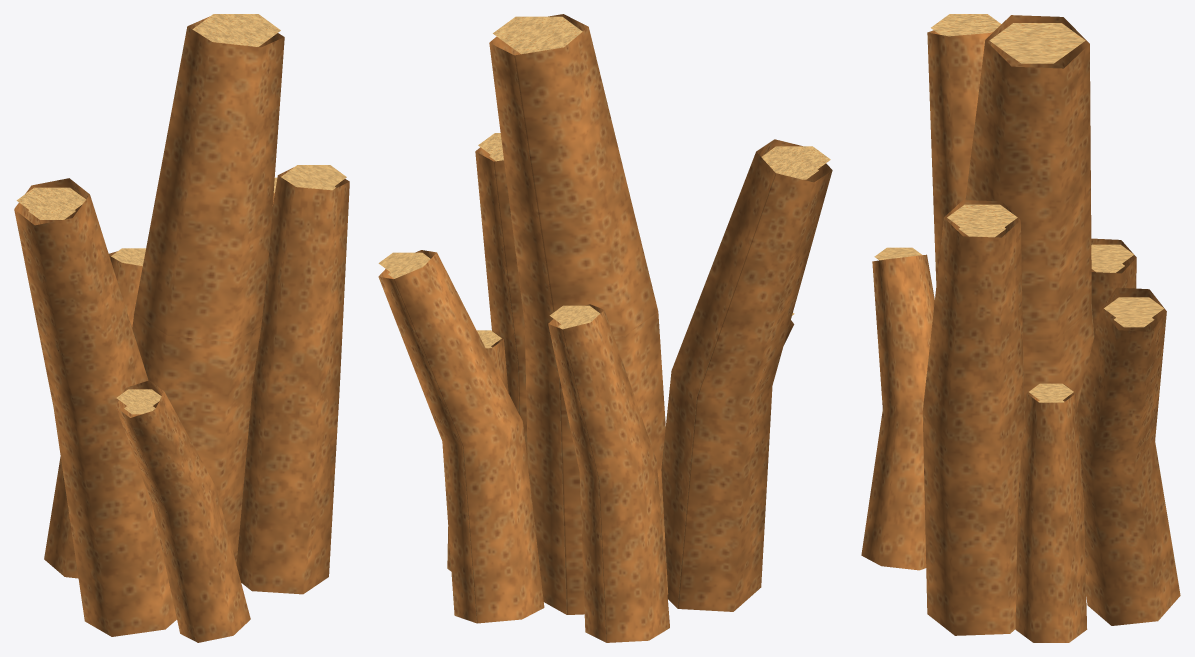
File: plant_shallows_sponge_tube_a.glb
3 renders of one model, left to right at view 1: azimuth 30°, elevation 25°; view 2: azimuth 150°, elevation 25°; view 3: azimuth 270°, elevation 25°, orthographic. The views are drawn at different scales.
Visible parts, largest first — view 1: plant_shallows_sponge_tube_a; view 2: plant_shallows_sponge_tube_a; view 3: plant_shallows_sponge_tube_a.
Part boxes in pixels (x1,y1,x2,y2): plant_shallows_sponge_tube_a: (14,14,349,642); plant_shallows_sponge_tube_a: (378,14,832,642); plant_shallows_sponge_tube_a: (861,14,1180,642).
Size of the model in its own units: 0.3126 by 0.4633 by 0.2316.
1 material, 1 textured.
